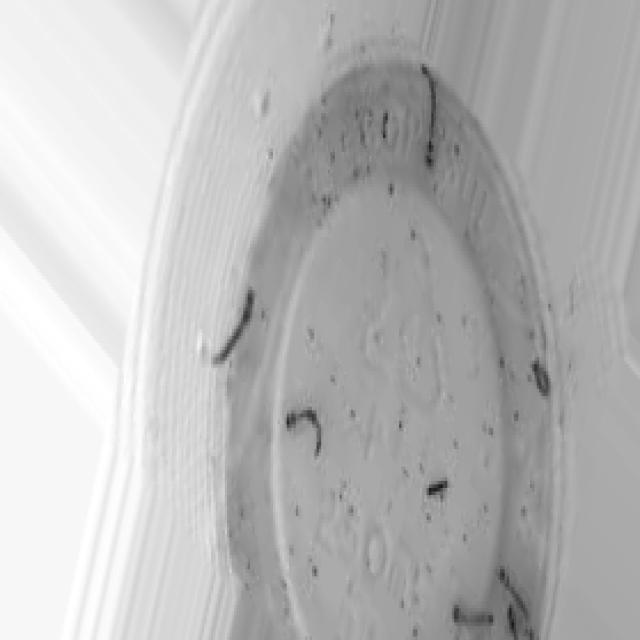larvas: (493, 557, 544, 640), (212, 284, 255, 366), (283, 408, 323, 461), (420, 66, 438, 170), (454, 604, 494, 625), (381, 109, 403, 145), (532, 359, 550, 396), (426, 476, 446, 497), (506, 600, 516, 640)
